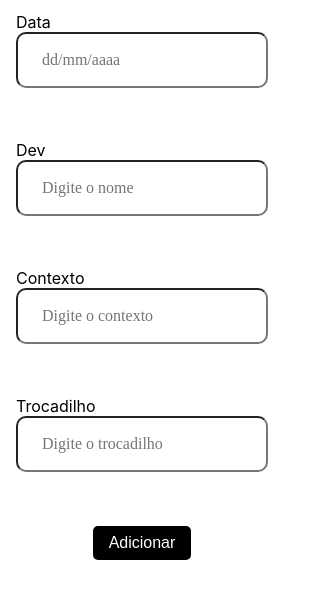
Scenario: PunAdd › shows an error message when the user inputs an invalid date
Type "99/99/9999" into the field labelled "Data" at [142, 60], box left=16, top=32, right=268, bottom=88
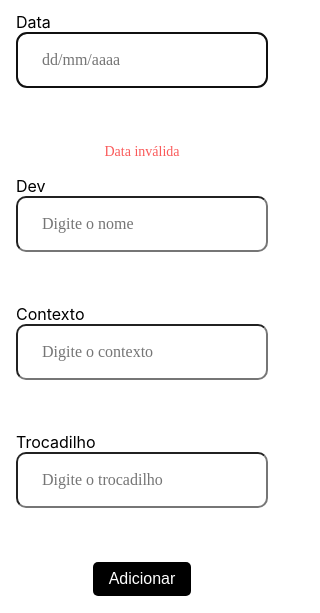
expect the text "Data inválida" is shown: met, box left=104, top=144, right=180, bottom=160
